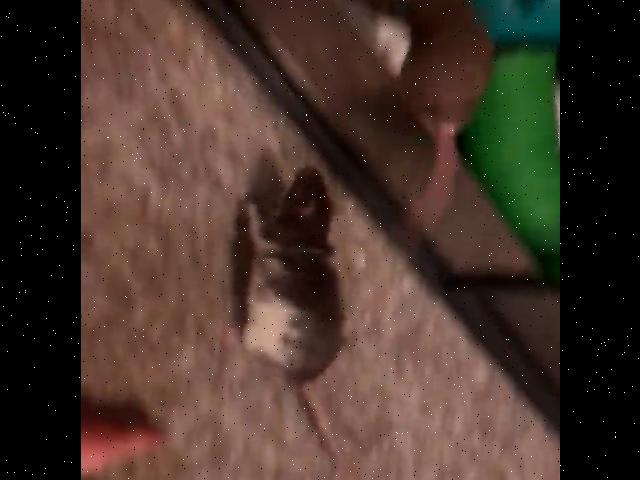Tikus: (238, 162, 342, 407)
